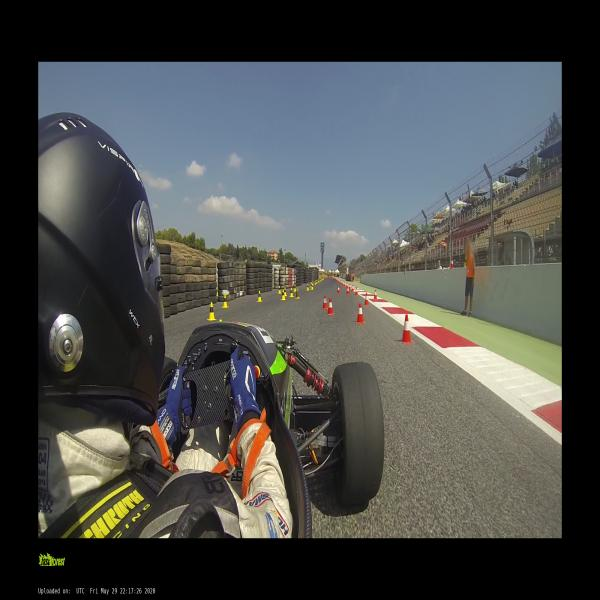orange_cone: (400, 314, 413, 344), (355, 304, 365, 324), (326, 297, 334, 315), (321, 295, 328, 309), (364, 293, 369, 305), (373, 290, 378, 300), (450, 259, 454, 269), (337, 286, 340, 294), (346, 287, 349, 295), (355, 288, 358, 296), (351, 286, 354, 291), (349, 285, 351, 290)
yellow_cone: (208, 302, 216, 320), (222, 294, 228, 308), (257, 290, 262, 302), (280, 290, 286, 300), (295, 288, 300, 299), (289, 288, 294, 298), (463, 257, 467, 267), (278, 286, 282, 294), (283, 288, 287, 296), (293, 284, 297, 292), (306, 284, 309, 290), (311, 284, 314, 290)
